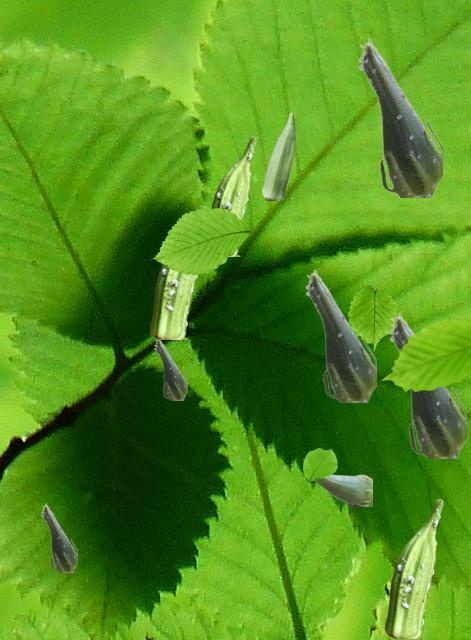okra: (358, 38, 441, 196), (389, 312, 465, 457), (305, 269, 375, 401), (385, 499, 442, 637), (150, 206, 205, 338), (211, 136, 255, 255), (303, 459, 371, 505), (262, 112, 294, 199), (41, 503, 76, 571), (154, 339, 186, 399)
